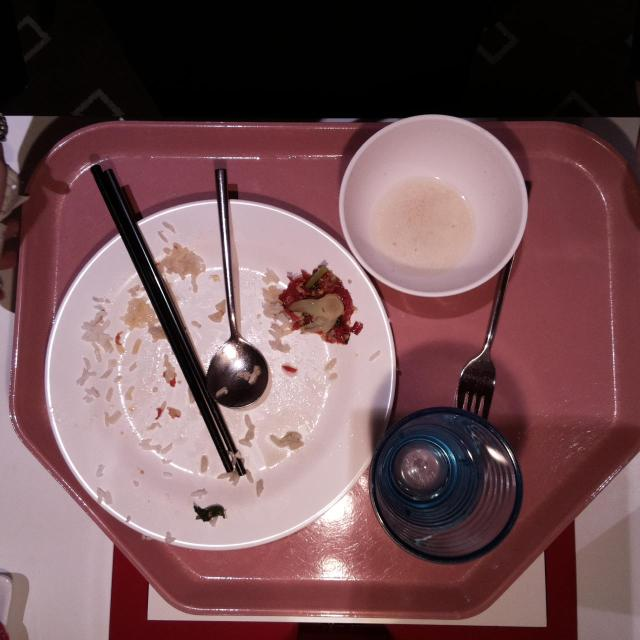Rice: (264, 285, 292, 337), (165, 244, 205, 278), (83, 314, 113, 353), (122, 295, 156, 328)
Vegetable: (192, 504, 226, 526)
